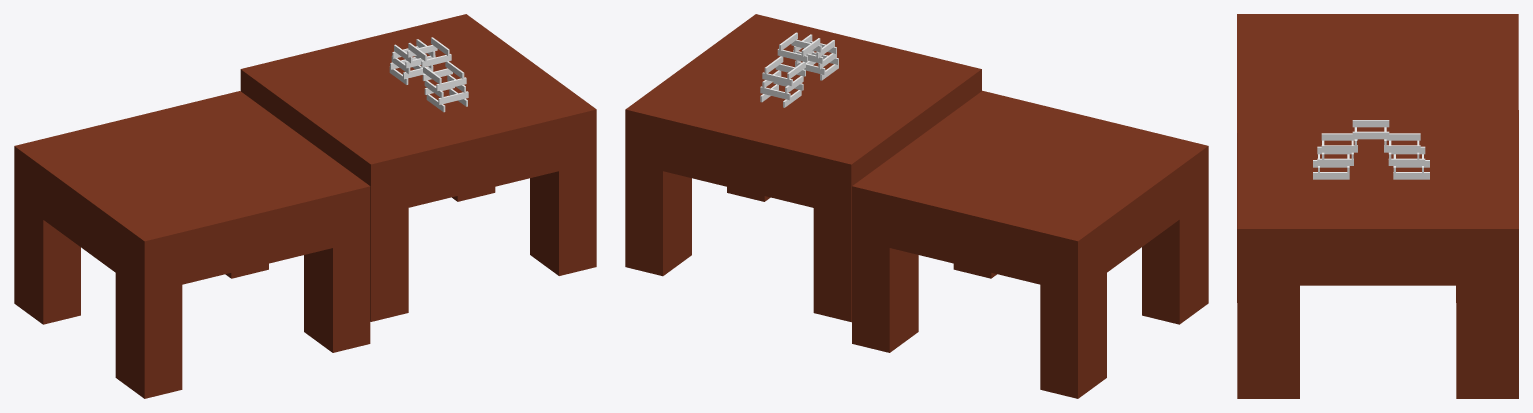
File: keva_bridge_sideways.dae
3 views of the same model, side by side, from view 1: azimuth 30°, elevation 25°; view 2: azimuth 150°, elevation 25°; view 3: azimuth 270°, elevation 25° (orthographic). The views are drawn at different scales.
Parts seen in each view (by area): view 1: base (×7); view 2: base (×7); view 3: base (×5), SketchUp (×9).
Boxes of the visible parts, x1,y1,x2,y2 form: base (×7): (14,14,596,398); base (×7): (625,14,1208,398); base (×5): (1237,14,1518,398); SketchUp (×9): (1313,120,1425,179).
Size of the model in its own units: 1.8 by 0.9009 by 0.8477.
